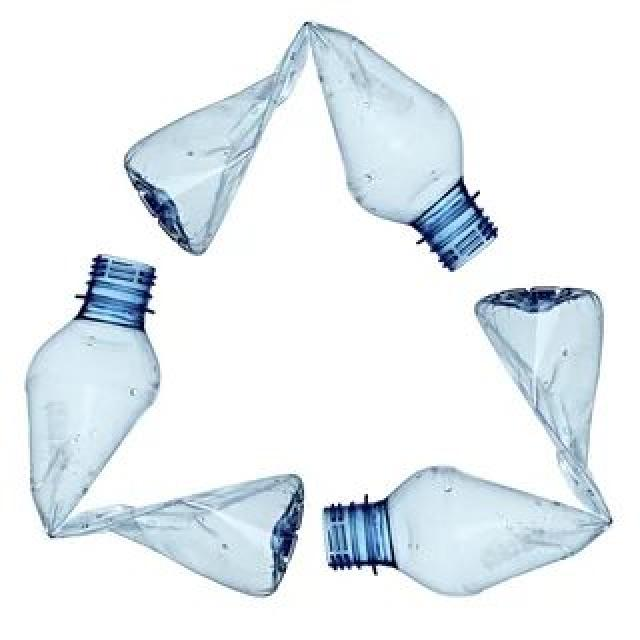blue: (25, 252, 307, 602), (125, 18, 500, 272), (325, 283, 613, 607)
